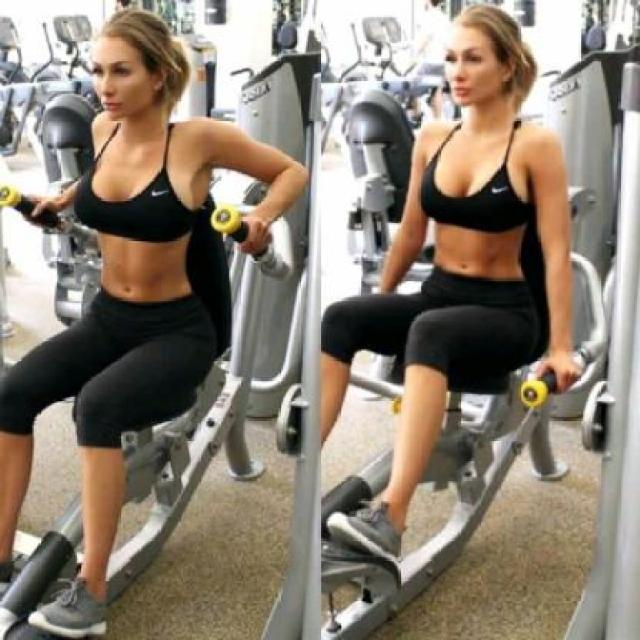seated dip machine: (0, 169, 309, 640)
